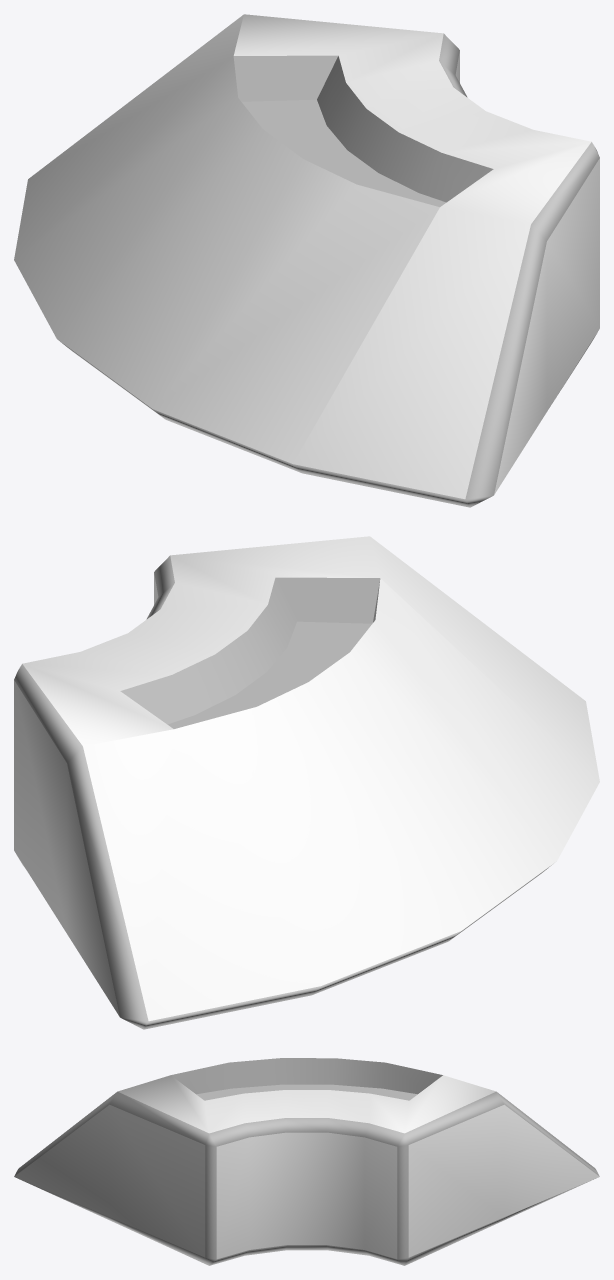
Rendered from Brick_LOD2_45 cutted.fbx.
The picture shows the model from 3 angles, top to bottom: view 1: azimuth 30°, elevation 25°; view 2: azimuth 150°, elevation 25°; view 3: azimuth 270°, elevation 25°; orthographic projection. The views are drawn at different scales.
Parts seen in each view (by area): view 1: Brick_LOD2_45_cutted; view 2: Brick_LOD2_45_cutted; view 3: Brick_LOD2_45_cutted.
Boxes of the visible parts, x1,y1,x2,y2 form: Brick_LOD2_45_cutted: (14, 14, 599, 507); Brick_LOD2_45_cutted: (14, 536, 599, 1029); Brick_LOD2_45_cutted: (14, 1058, 599, 1265).
Size of the model in its own units: 1.1 by 0.5 by 2.
1 material, 1 textured.
